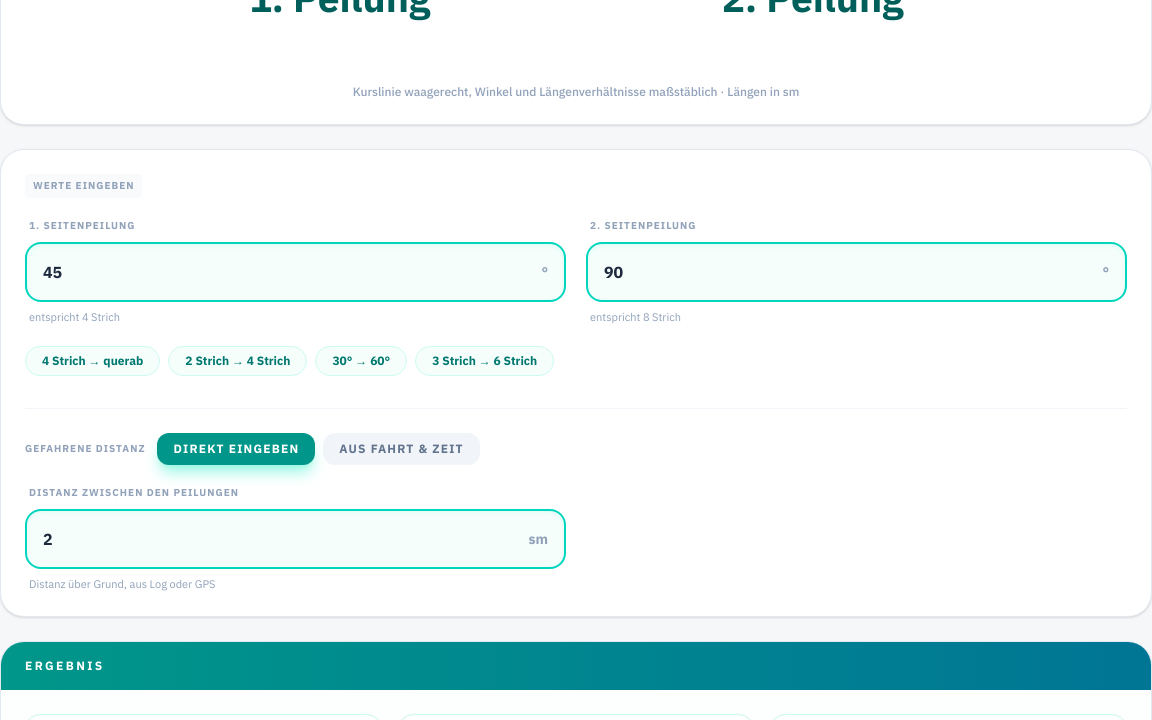
Scenario: VersegelungRechner › Vorlage-Knopf setzt beide Seitenpeilungen
(page scrolled)
Step 1. Click the button "30° → 60°" → (361, 361), box [315, 346, 407, 376]
(page scrolled)
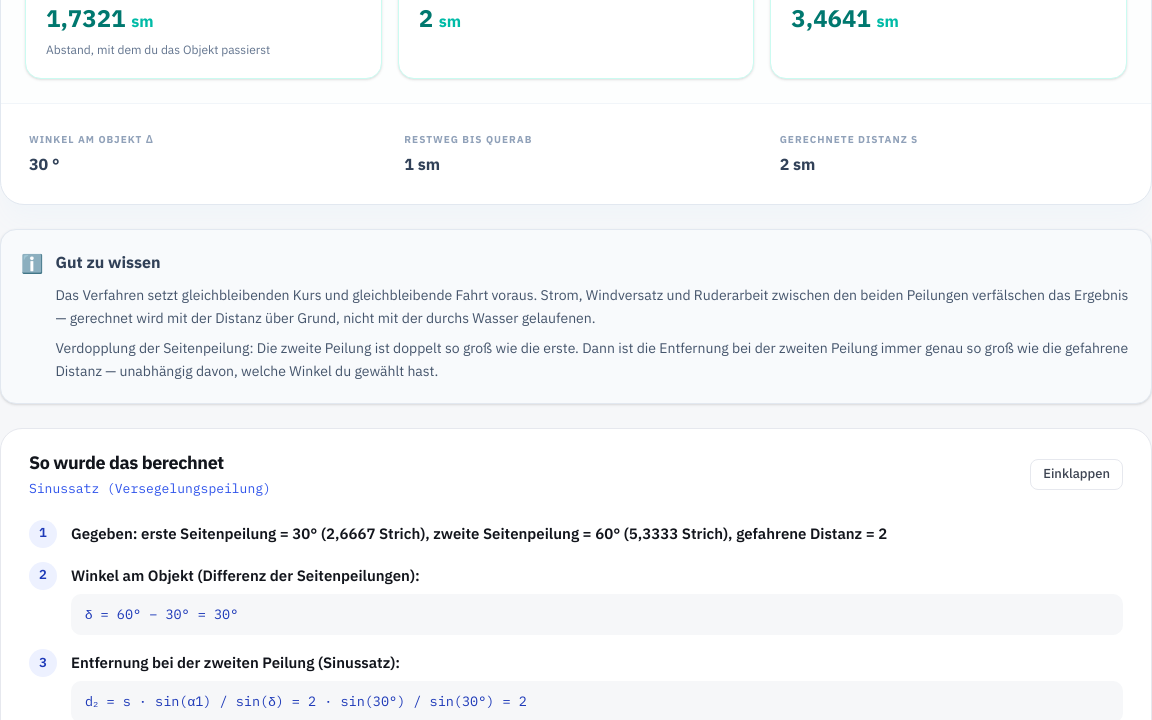
Now the text "Verdopplung" is shown, box [56, 339, 1128, 380]
